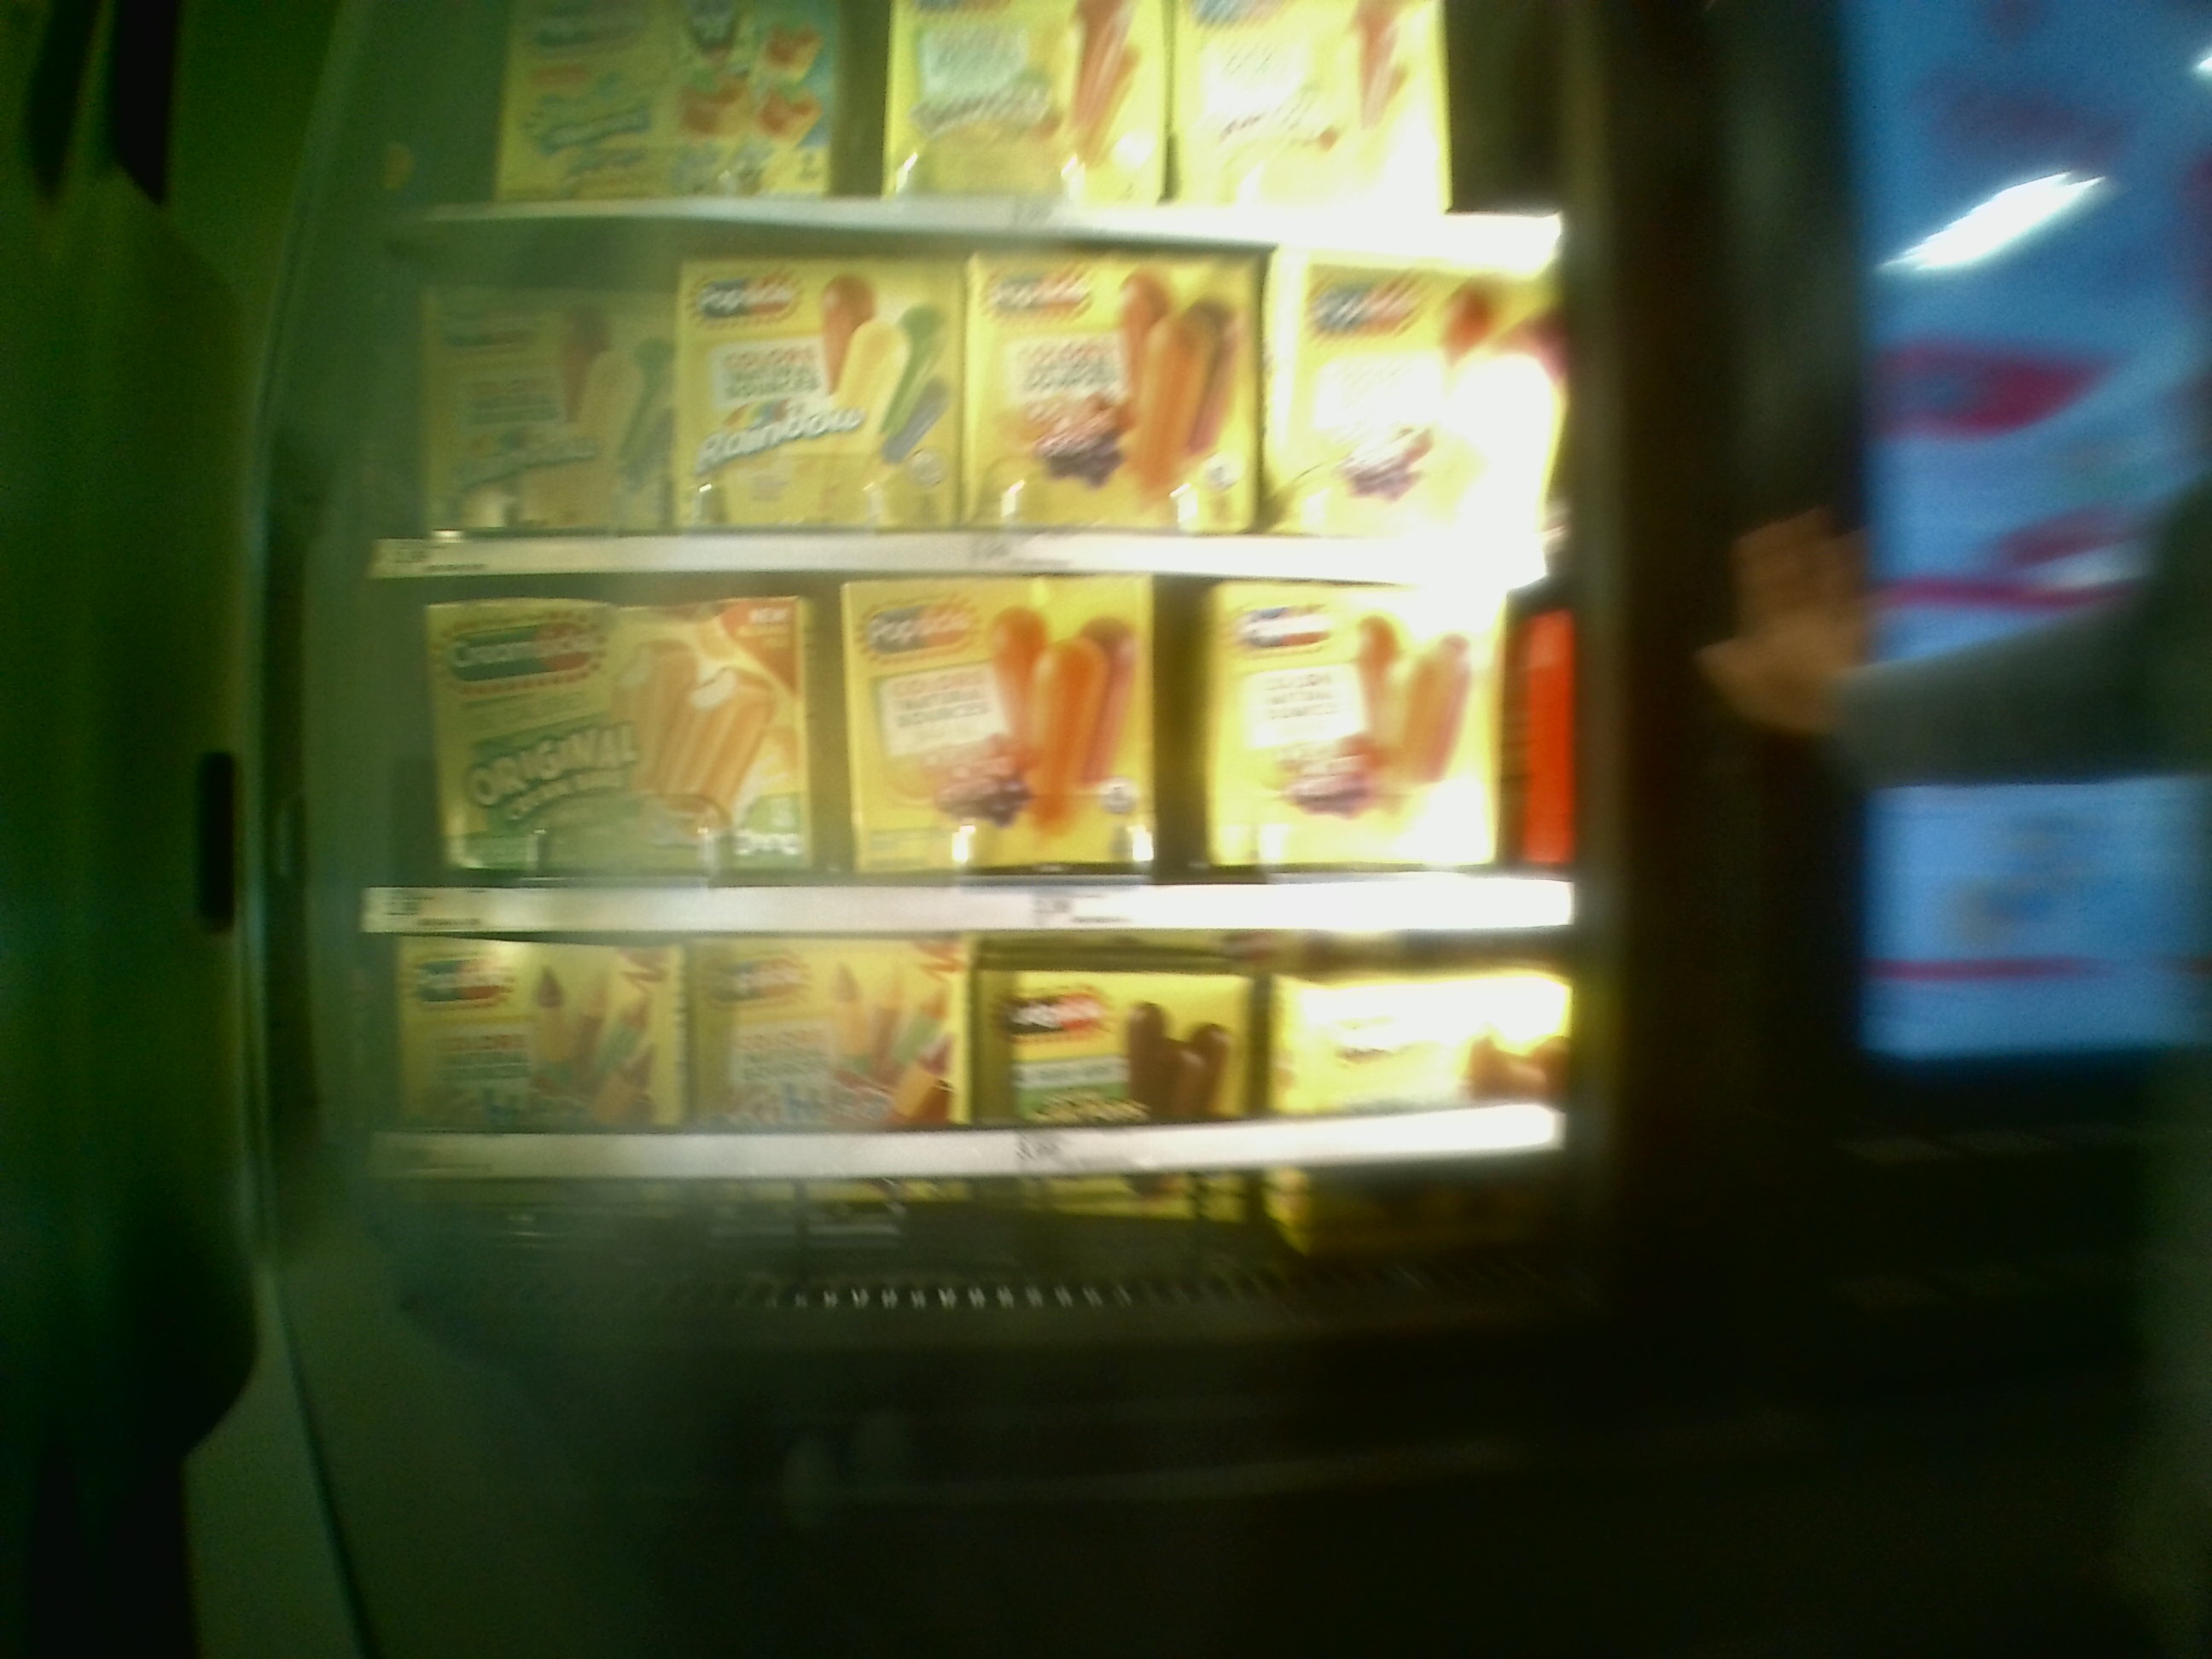frozen-food-shelf: (350, 573, 1588, 939), (329, 948, 1588, 1183)
